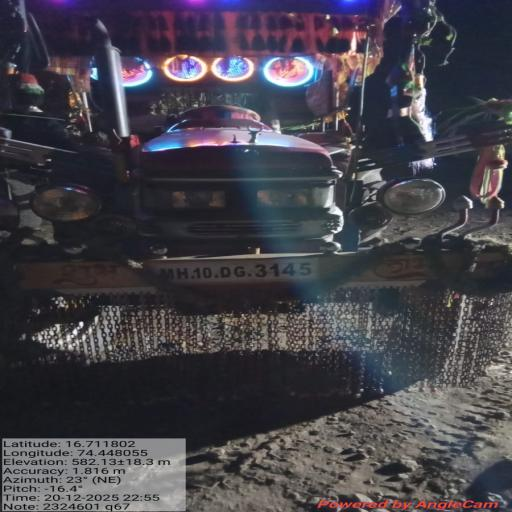number_plate: (144, 258, 353, 291)
